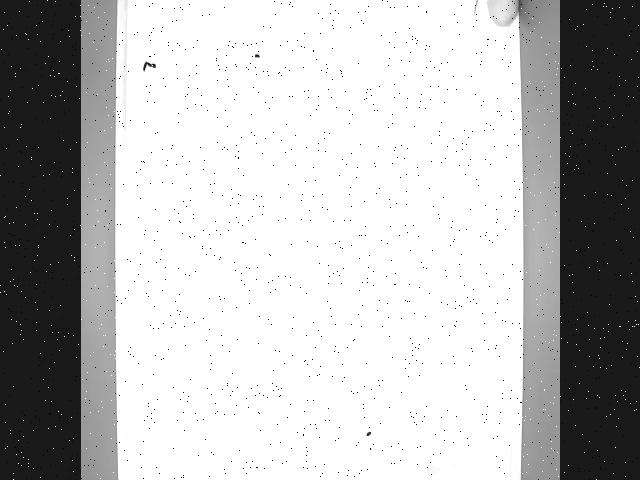Tikus: (473, 0, 521, 46)
